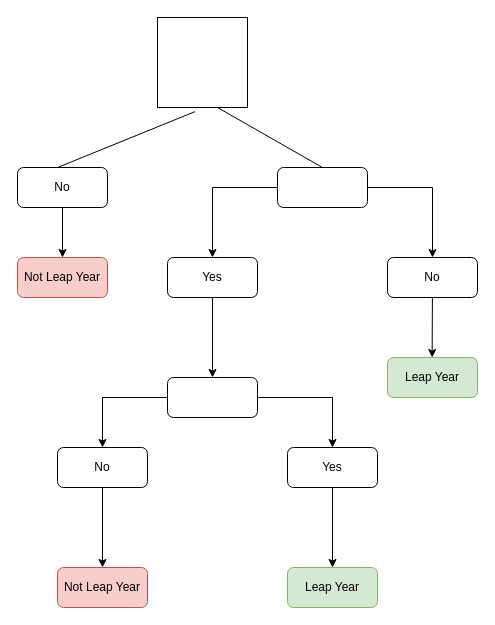
The diagram is 495 pixels wide and 625 high, and some of its shapes have lost their labels. Each missing label, with the box of its shape:
Also Divisible by 400: (166, 376, 258, 418)
Start Here Year divisible by 4: (156, 16, 248, 108)
Yes Also divisible by 100: (276, 166, 368, 208)
